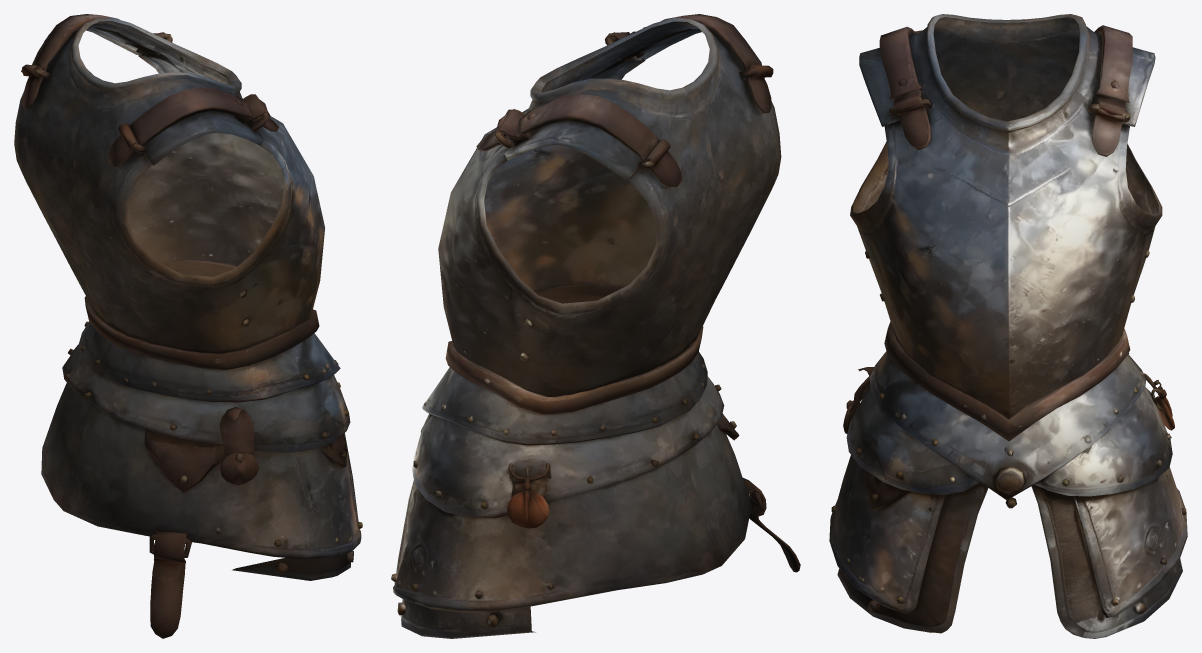
The picture shows the model from 3 angles, left to right: view 1: azimuth 30°, elevation 25°; view 2: azimuth 150°, elevation 25°; view 3: azimuth 270°, elevation 25°; orthographic projection. The views are drawn at different scales.
Parts seen in each view (by area): view 1: tripo_node_0838613e-2314-4f57-87b9-65da3d9d67cb; view 2: tripo_node_0838613e-2314-4f57-87b9-65da3d9d67cb; view 3: tripo_node_0838613e-2314-4f57-87b9-65da3d9d67cb.
Boxes of the visible parts, bbox=[...] form: tripo_node_0838613e-2314-4f57-87b9-65da3d9d67cb: bbox=[14, 14, 362, 638]; tripo_node_0838613e-2314-4f57-87b9-65da3d9d67cb: bbox=[391, 14, 800, 638]; tripo_node_0838613e-2314-4f57-87b9-65da3d9d67cb: bbox=[829, 14, 1187, 638].
Size of the model in its own units: 0.5098 by 0.998 by 0.6113.
Materials: 1 (1 with a texture image).
